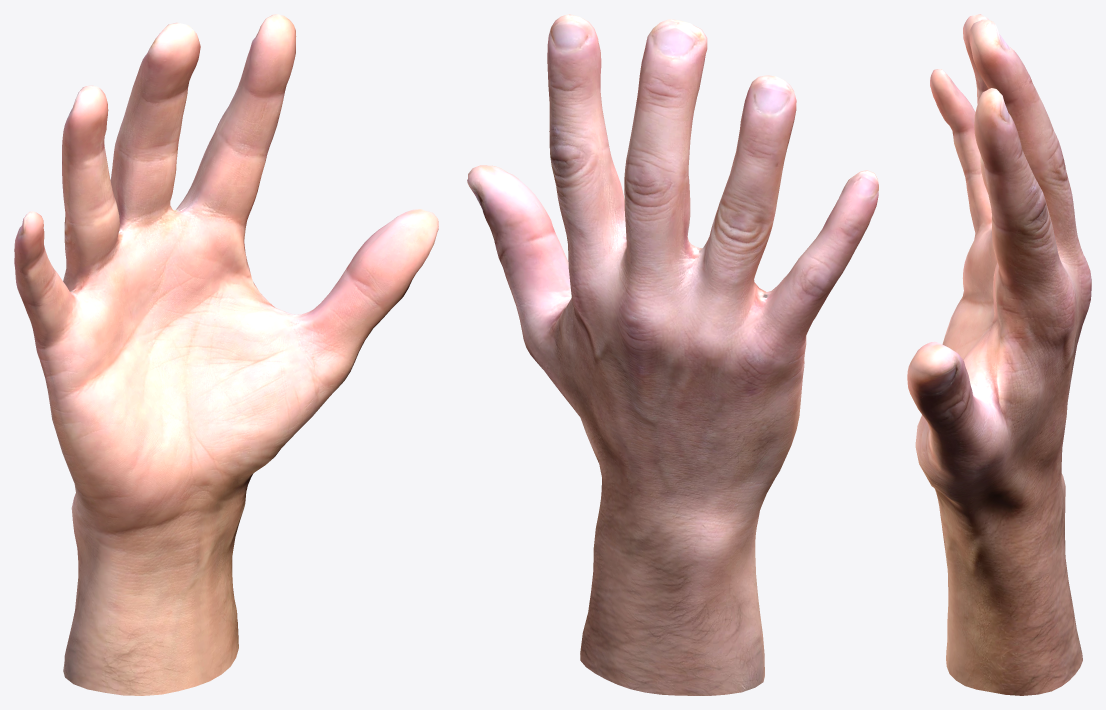
Rendered from male_hand_scan.glb.
3 renders of one model, left to right at view 1: azimuth 30°, elevation 25°; view 2: azimuth 150°, elevation 25°; view 3: azimuth 270°, elevation 25°, orthographic.
Parts seen in each view (by area): view 1: Male_hand_40plus; view 2: Male_hand_40plus; view 3: Male_hand_40plus.
Boxes of the visible parts, x1,y1,x2,y2 form: Male_hand_40plus: (14,14,438,695); Male_hand_40plus: (467,14,878,695); Male_hand_40plus: (907,14,1091,695).
Bounding box in the file's own units: 613 × 914 × 237.
Materials: 1 (1 with a texture image).
